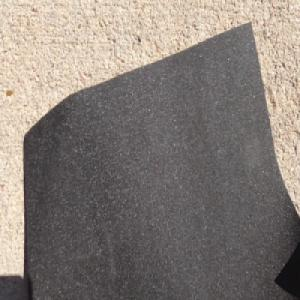PaintChip: (22, 19, 300, 300)
